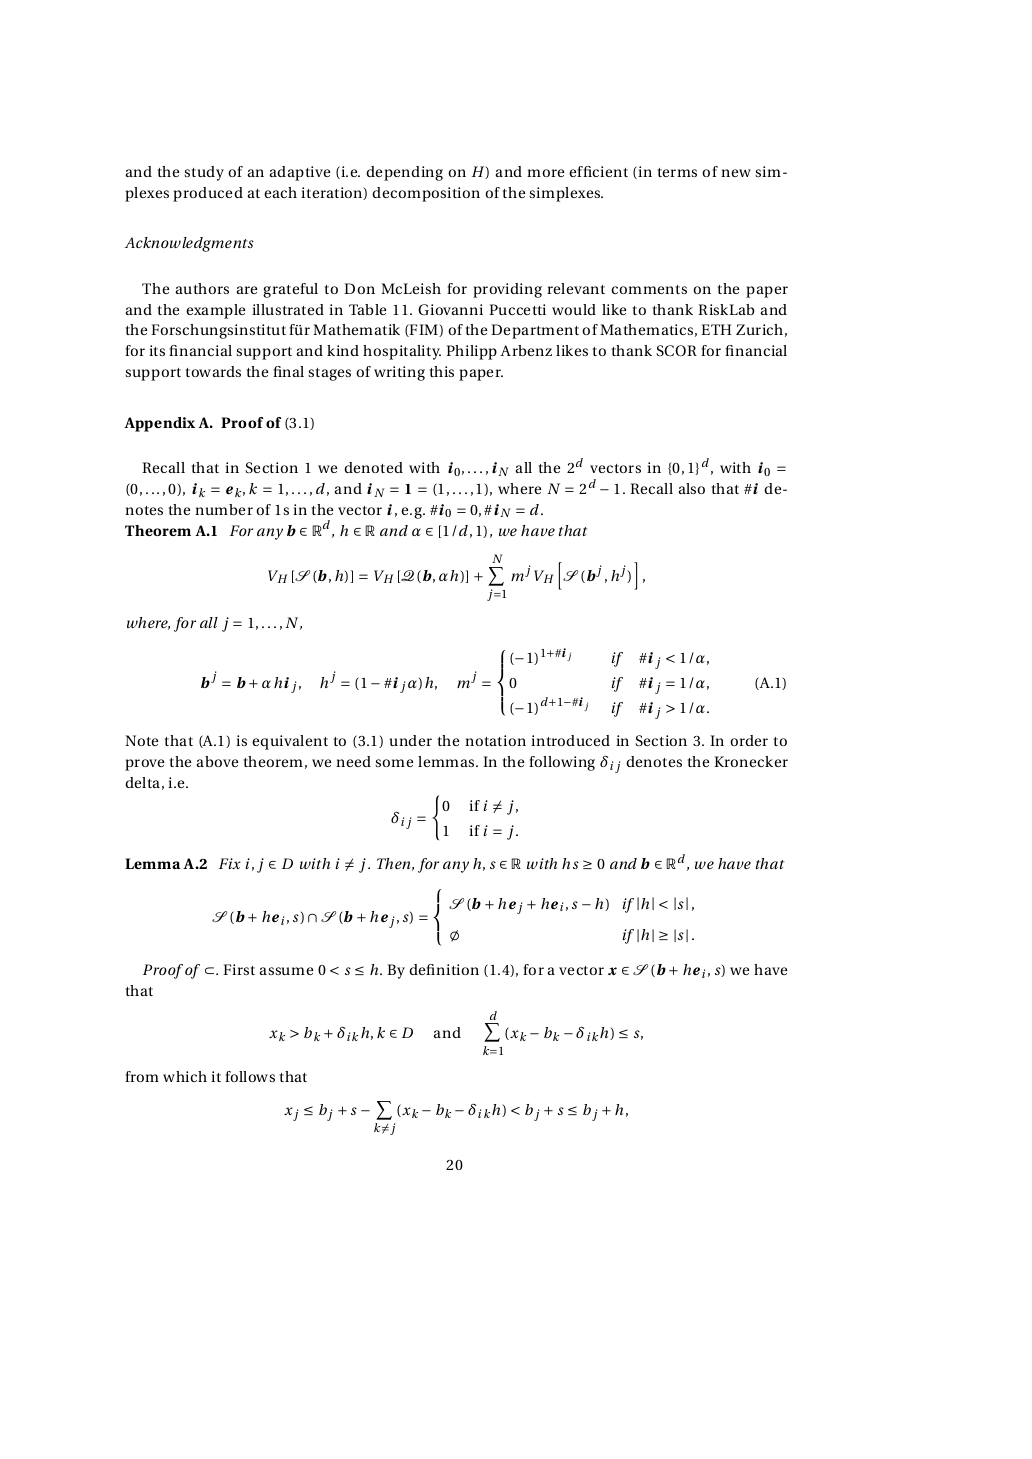formula: (201, 647, 785, 719), (212, 887, 692, 946), (268, 553, 644, 601), (269, 1011, 642, 1055), (284, 1101, 627, 1134), (391, 794, 517, 841)
